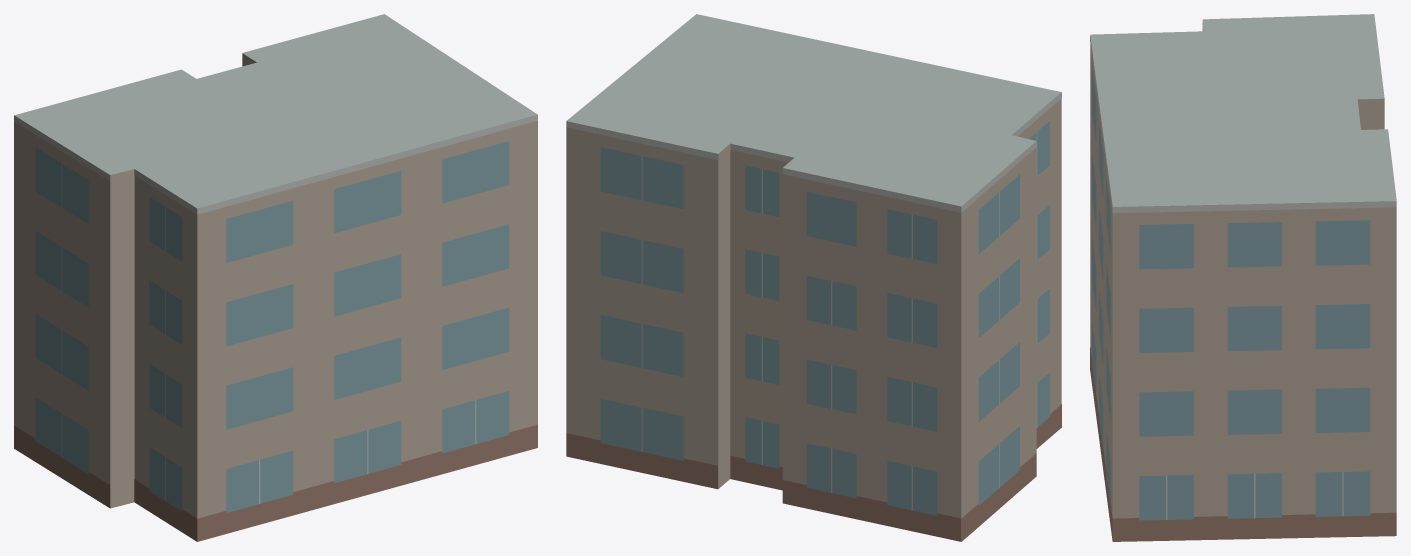
Rendered from survey-upis-32736027.glb.
The picture shows the model from 3 angles, left to right: view 1: azimuth 30°, elevation 25°; view 2: azimuth 150°, elevation 25°; view 3: azimuth 270°, elevation 25°; orthographic projection.
Parts seen in each view (by area): view 1: survey-upis-32736027.tmp; view 2: survey-upis-32736027.tmp; view 3: survey-upis-32736027.tmp.
Boxes of the visible parts, left/top/right/bottom form: survey-upis-32736027.tmp: left=14, top=14, right=537, bottom=541; survey-upis-32736027.tmp: left=566, top=14, right=1061, bottom=541; survey-upis-32736027.tmp: left=1090, top=14, right=1396, bottom=541.
Size of the model in its own units: 16.26 by 13.15 by 10.92.
